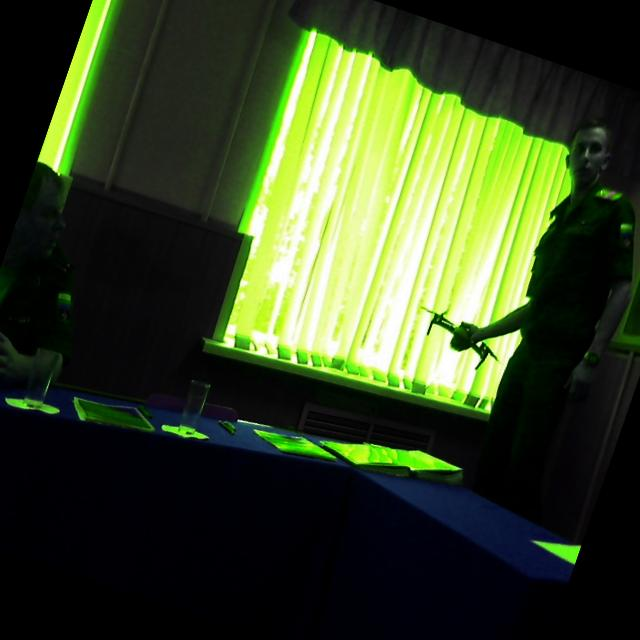drone: (386, 272, 522, 384)
